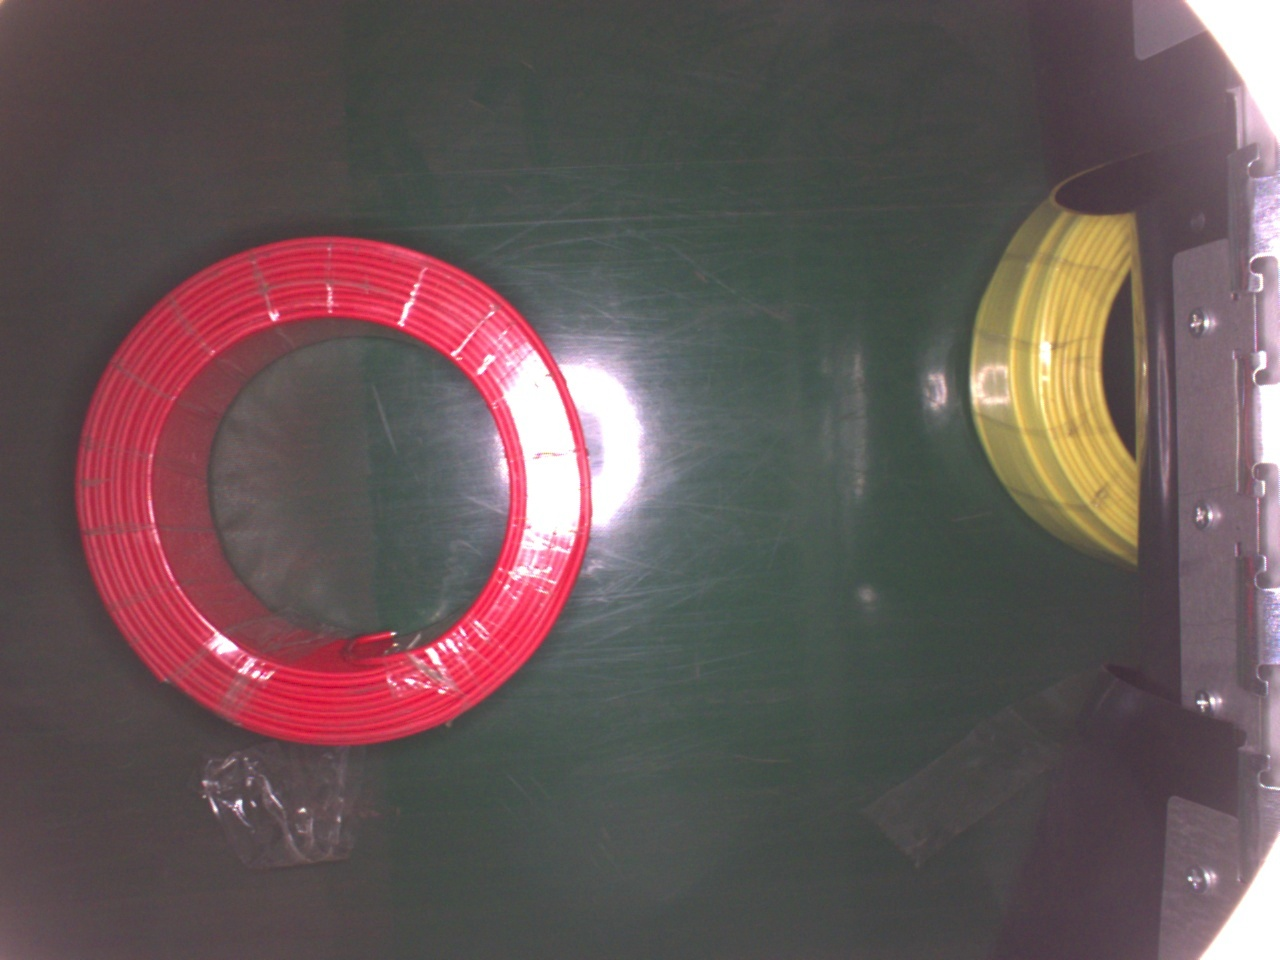red: (72, 233, 598, 755)
yellow: (971, 192, 1150, 573)
